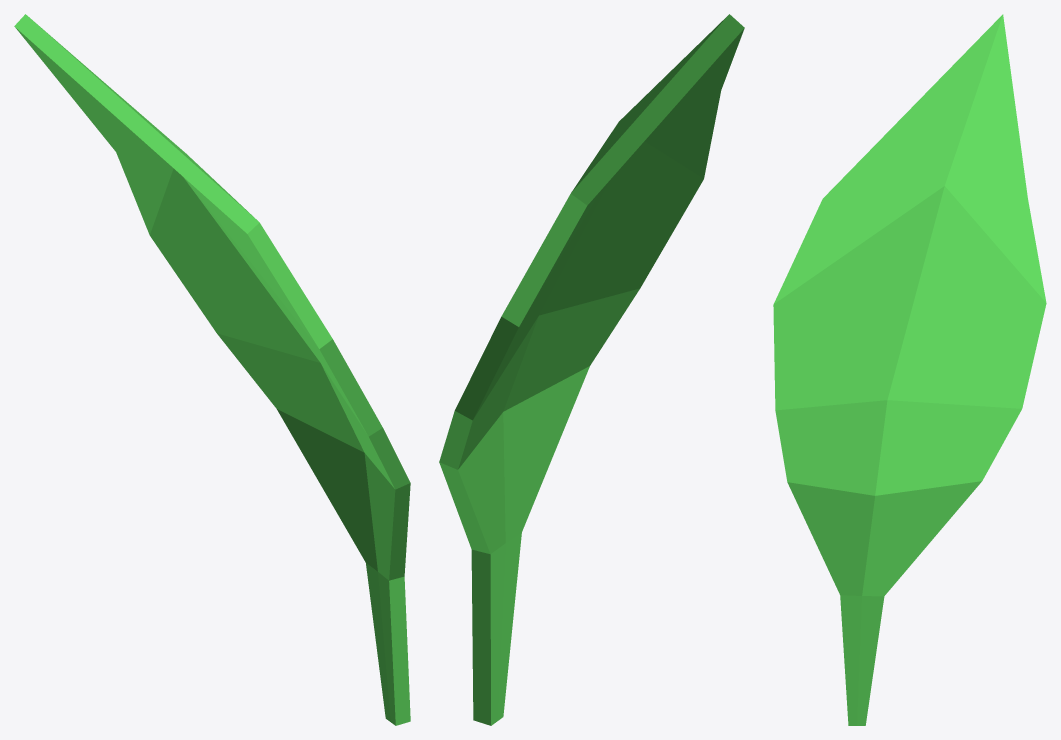
Rendered from wheat_seed.glb.
3 renders of one model, left to right at view 1: azimuth 30°, elevation 25°; view 2: azimuth 150°, elevation 25°; view 3: azimuth 270°, elevation 25°, orthographic. The views are drawn at different scales.
Visible parts, largest first — view 1: Plane; view 2: Plane; view 3: Plane.
Part boxes in pixels (bbox=[...]): Plane: bbox=[14, 14, 410, 725]; Plane: bbox=[439, 14, 744, 725]; Plane: bbox=[773, 14, 1046, 725].
Bounding box in the file's own units: 3.53 × 7.89 × 3.29.
